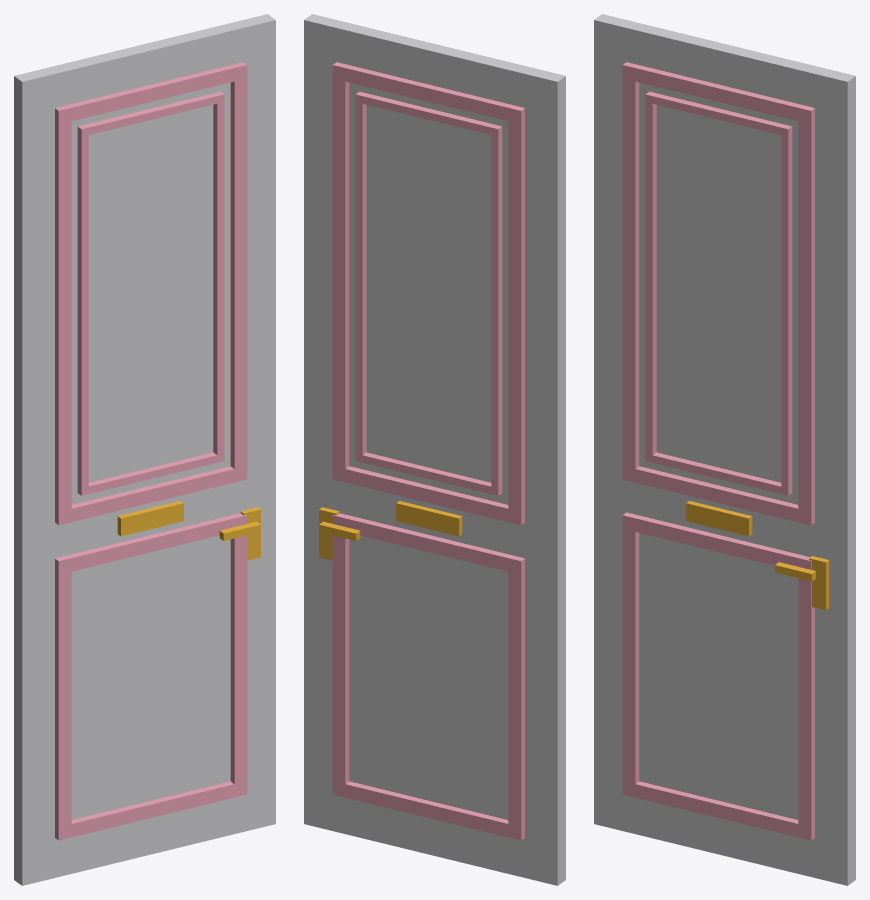
File: SM_Door_girls_90x270.fbx
3 renders of one model, left to right at view 1: azimuth 30°, elevation 25°; view 2: azimuth 150°, elevation 25°; view 3: azimuth 330°, elevation 25°, orthographic.
Parts seen in each view (by area): view 1: SM_Door_girls_90x270; view 2: SM_Door_girls_90x270; view 3: SM_Door_girls_90x270.
Boxes of the visible parts, <box> form: SM_Door_girls_90x270: <box>14,14,275,885</box>; SM_Door_girls_90x270: <box>304,14,565,885</box>; SM_Door_girls_90x270: <box>594,14,855,885</box>.
Size of the model in its own units: 0.888 by 2.69 by 0.175.
